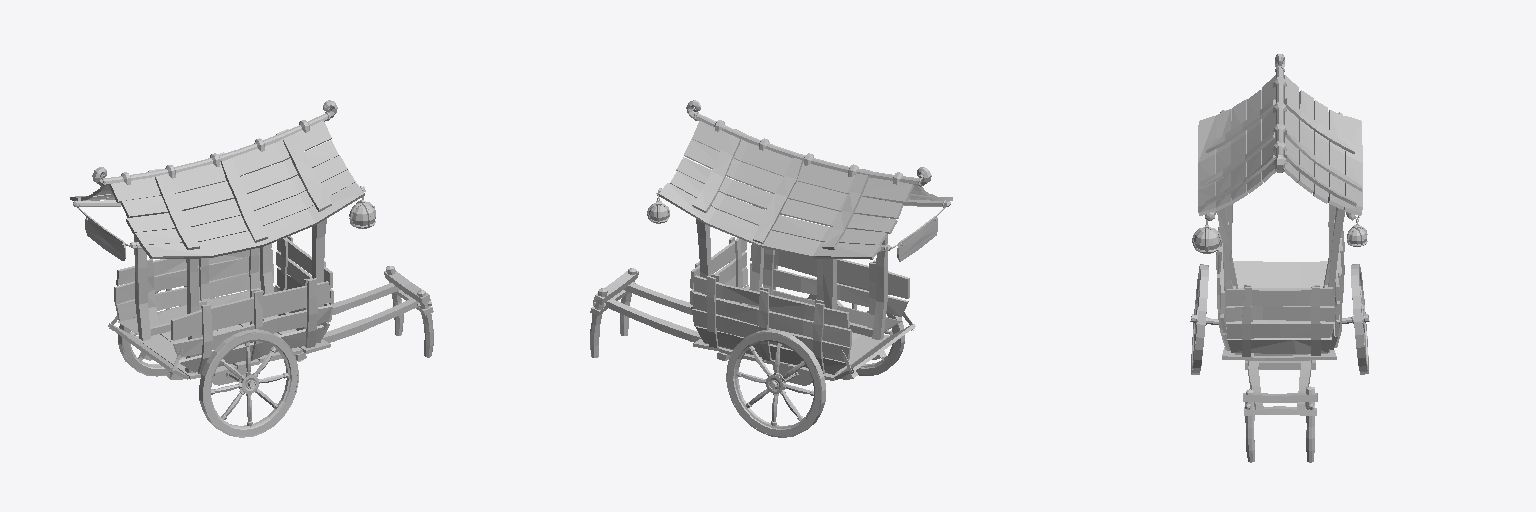
File: cart_OBJ.obj
3 views of the same model, side by side, from view 1: azimuth 30°, elevation 25°; view 2: azimuth 150°, elevation 25°; view 3: azimuth 270°, elevation 25° (orthographic).
Visible parts, largest first — view 1: cart_lp; view 2: cart_lp; view 3: cart_lp.
Part boxes in pixels (bbox=[...]): cart_lp: bbox=[70, 100, 433, 437]; cart_lp: bbox=[590, 100, 952, 437]; cart_lp: bbox=[1190, 54, 1369, 462].
Bounding box in the file's own units: 3.78 × 3.05 × 1.81.